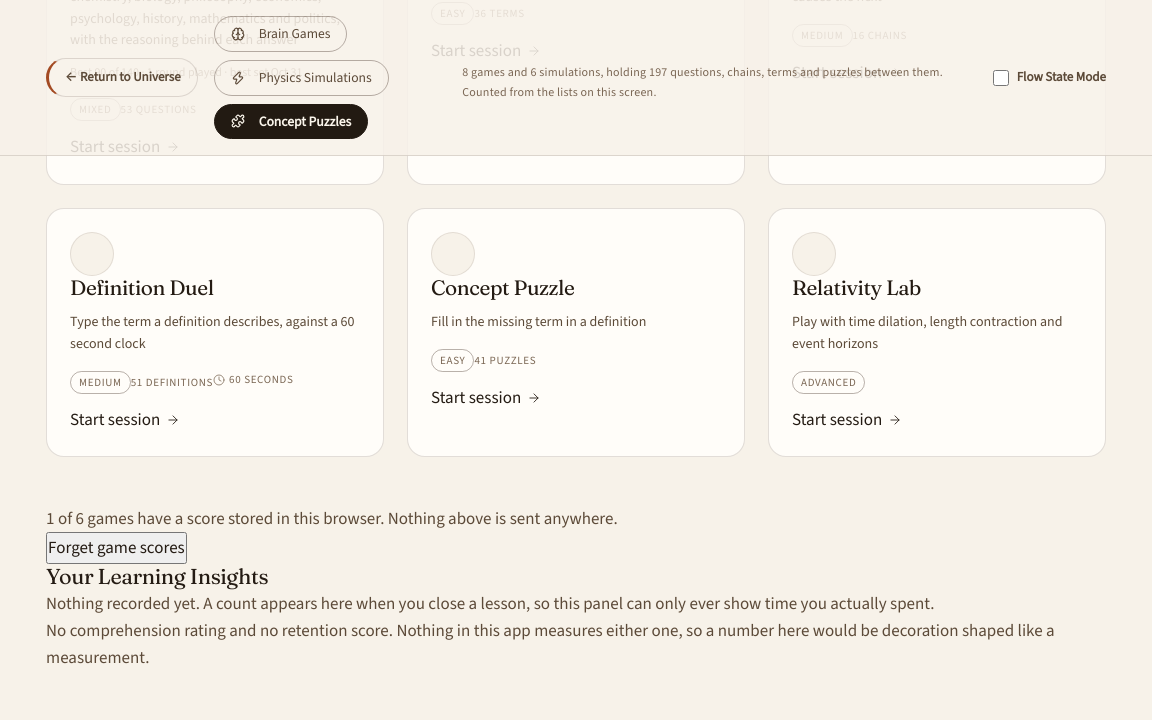
it: forgetting the scores › a score can be forgotten, and the cards stop claiming it
(page scrolled)
Click the button "Forget game scores" at (116,548), box [46,532,187,564]
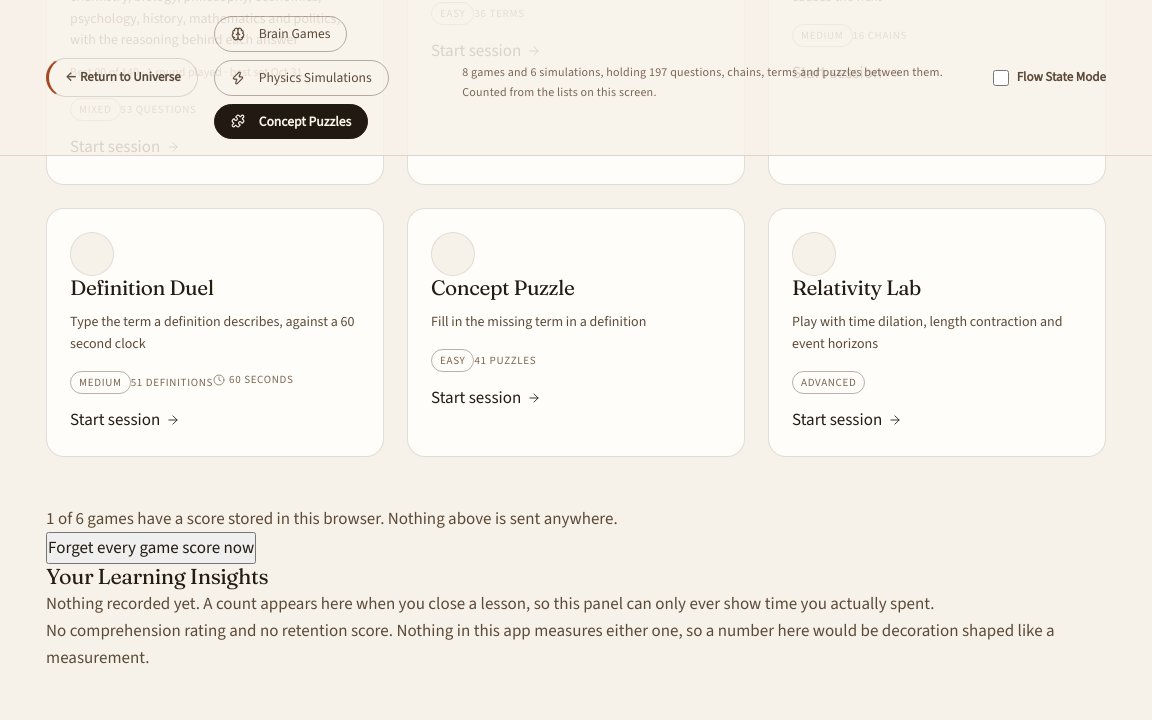
Click the button "Forget every game score now" at (151,548), box [46,532,256,564]
(page scrolled)
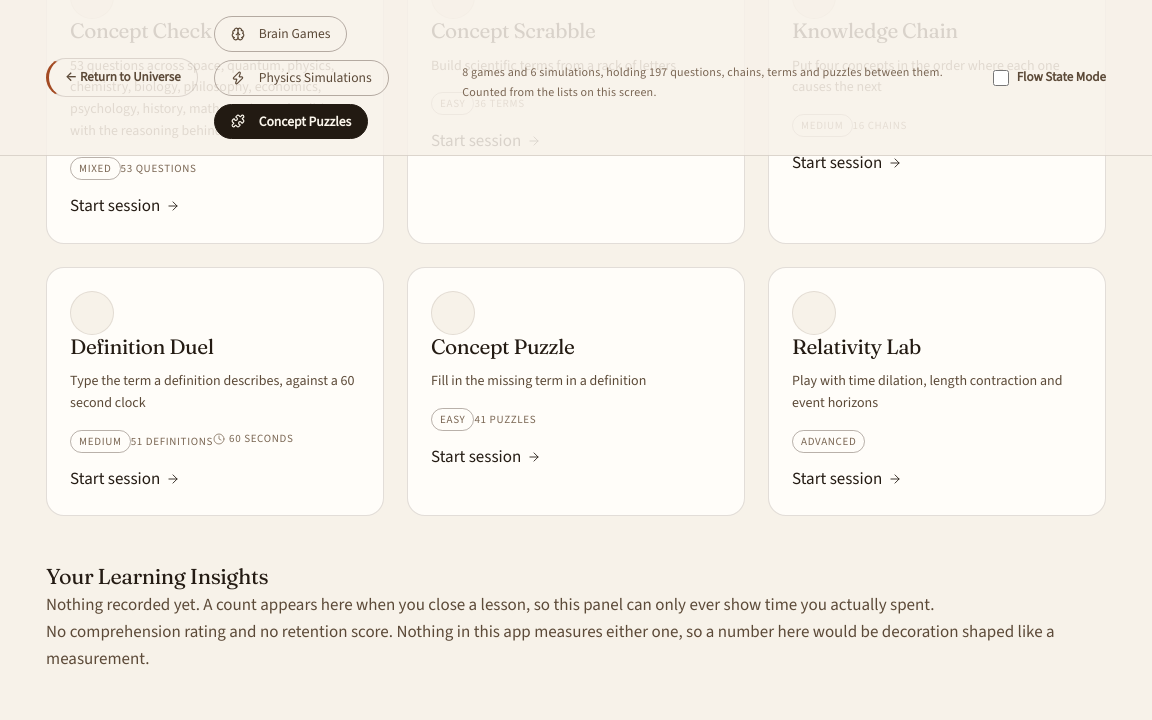
Expected: no elements with test id "game-best" are shown
Expected: the element with test id "games-records" is gone
